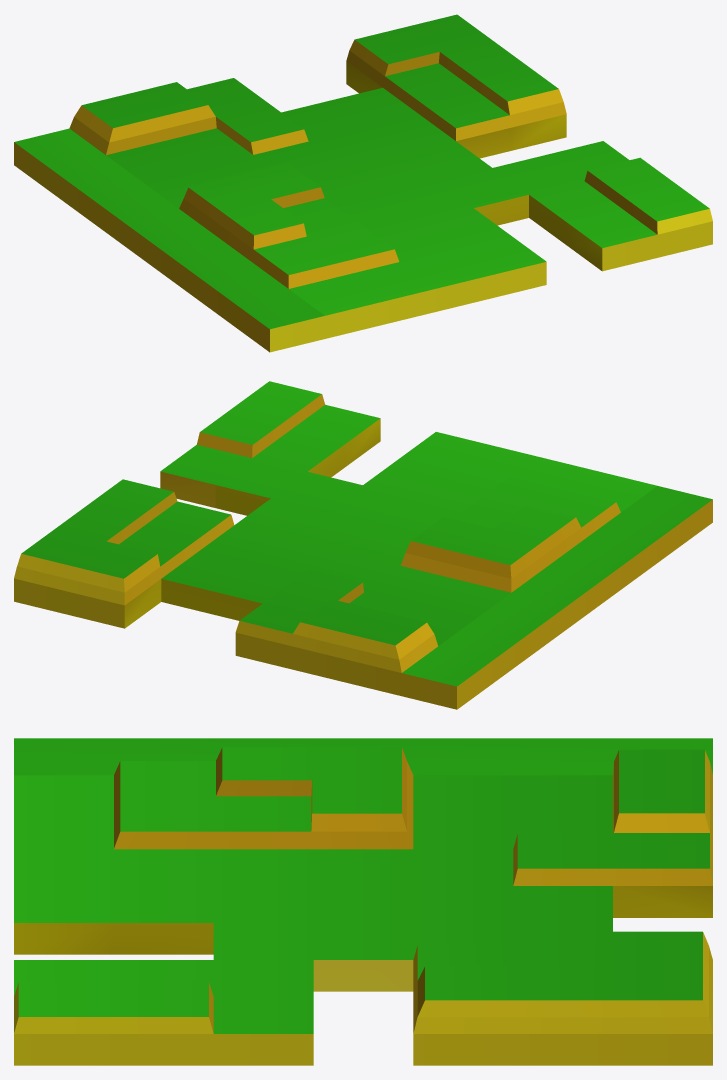
Rendered from playground.fbx.
3 views of the same model, one above another, from view 1: azimuth 30°, elevation 25°; view 2: azimuth 150°, elevation 25°; view 3: azimuth 270°, elevation 25° (orthographic). The views are drawn at different scales.
Parts seen in each view (by area): view 1: Cube; view 2: Cube; view 3: Cube.
Part boxes in pixels (<box>): Cube: <box>14,14,712,352</box>; Cube: <box>14,381,712,709</box>; Cube: <box>14,738,712,1065</box>.
Size of the model in its own units: 40 by 4 by 40.
1 material, 1 textured.
